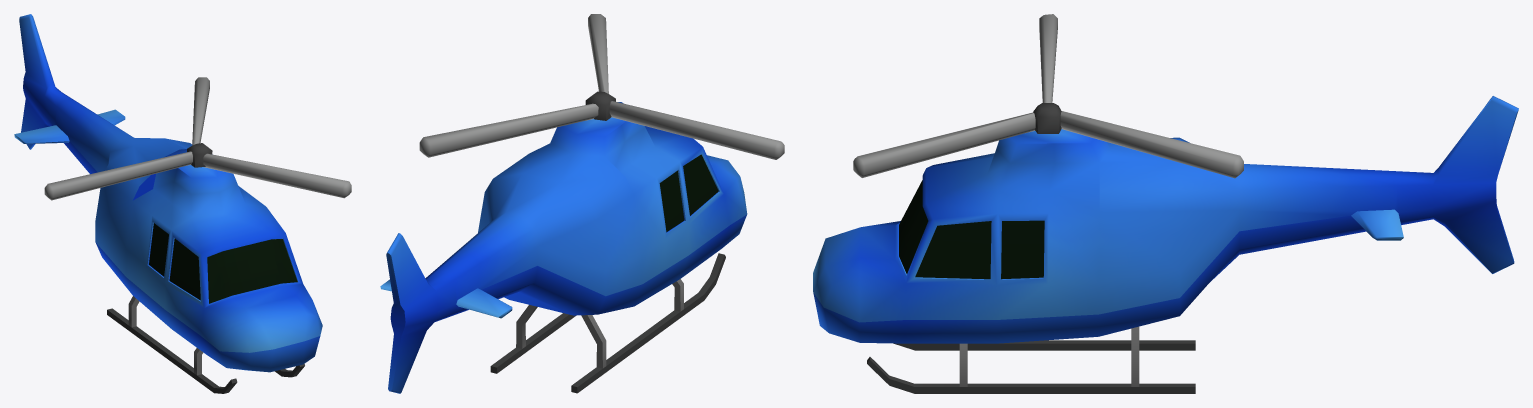
Rendered from Heli.fbx.
The picture shows the model from 3 angles, left to right: view 1: azimuth 30°, elevation 25°; view 2: azimuth 150°, elevation 25°; view 3: azimuth 270°, elevation 25°; orthographic projection. The views are drawn at different scales.
Parts seen in each view (by area): view 1: helicopter; view 2: helicopter; view 3: helicopter.
Part boxes in pixels (box(x1,y1,x2,y2)): helicopter: box(14, 14, 351, 393); helicopter: box(380, 14, 784, 393); helicopter: box(813, 14, 1518, 393).
Bounding box in the file's own units: 1253 × 1070 × 2495.
